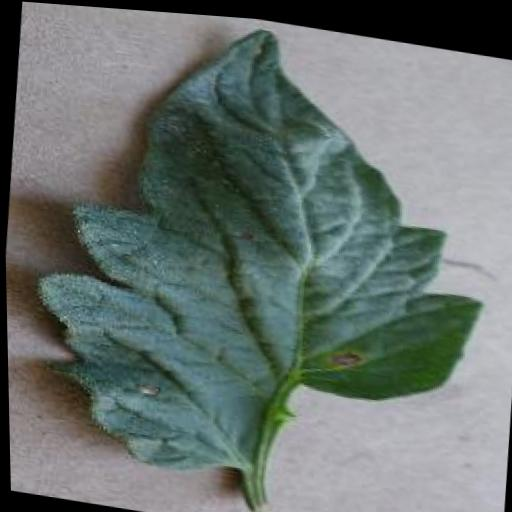Early Blight: (12, 1, 507, 512)
